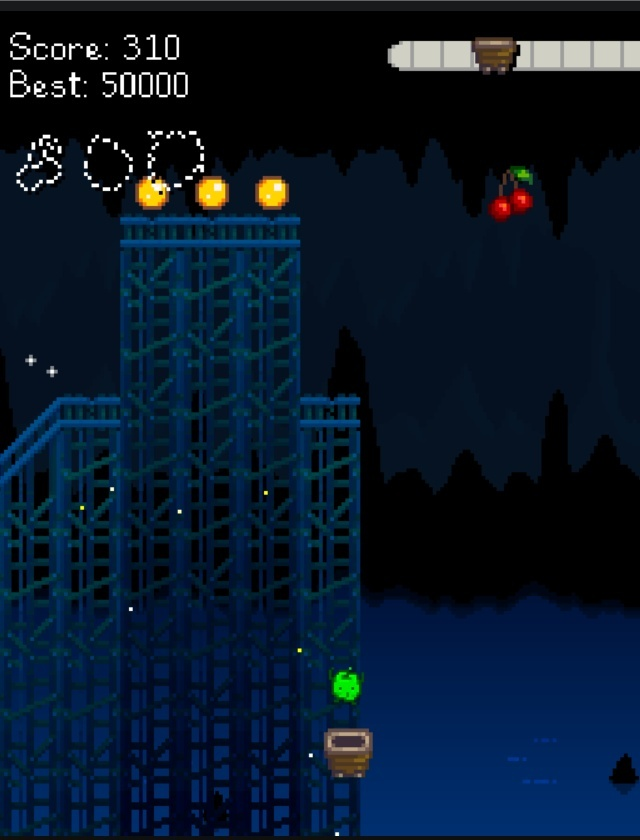cherry: (486, 164, 533, 222)
coins: (256, 176, 287, 209), (136, 178, 167, 209), (197, 178, 227, 207)
minecart: (324, 728, 372, 777)
tracks: (0, 396, 118, 485), (121, 218, 299, 250), (301, 396, 359, 427)
